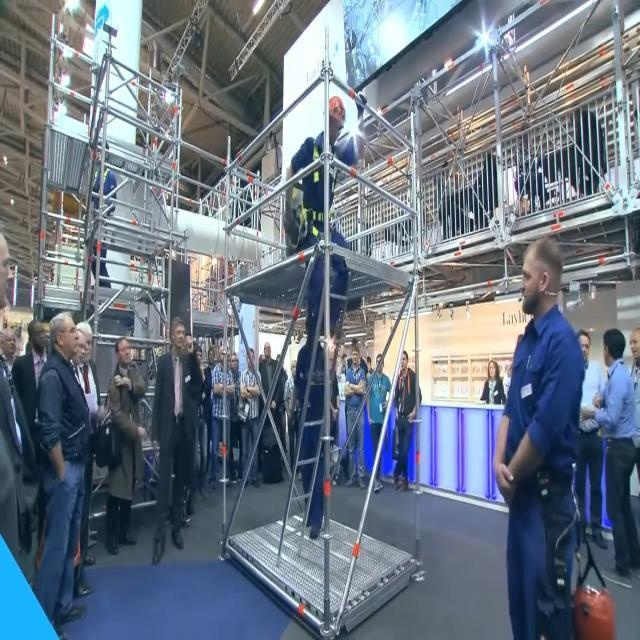Arnes_seguridad: (298, 121, 339, 240)
